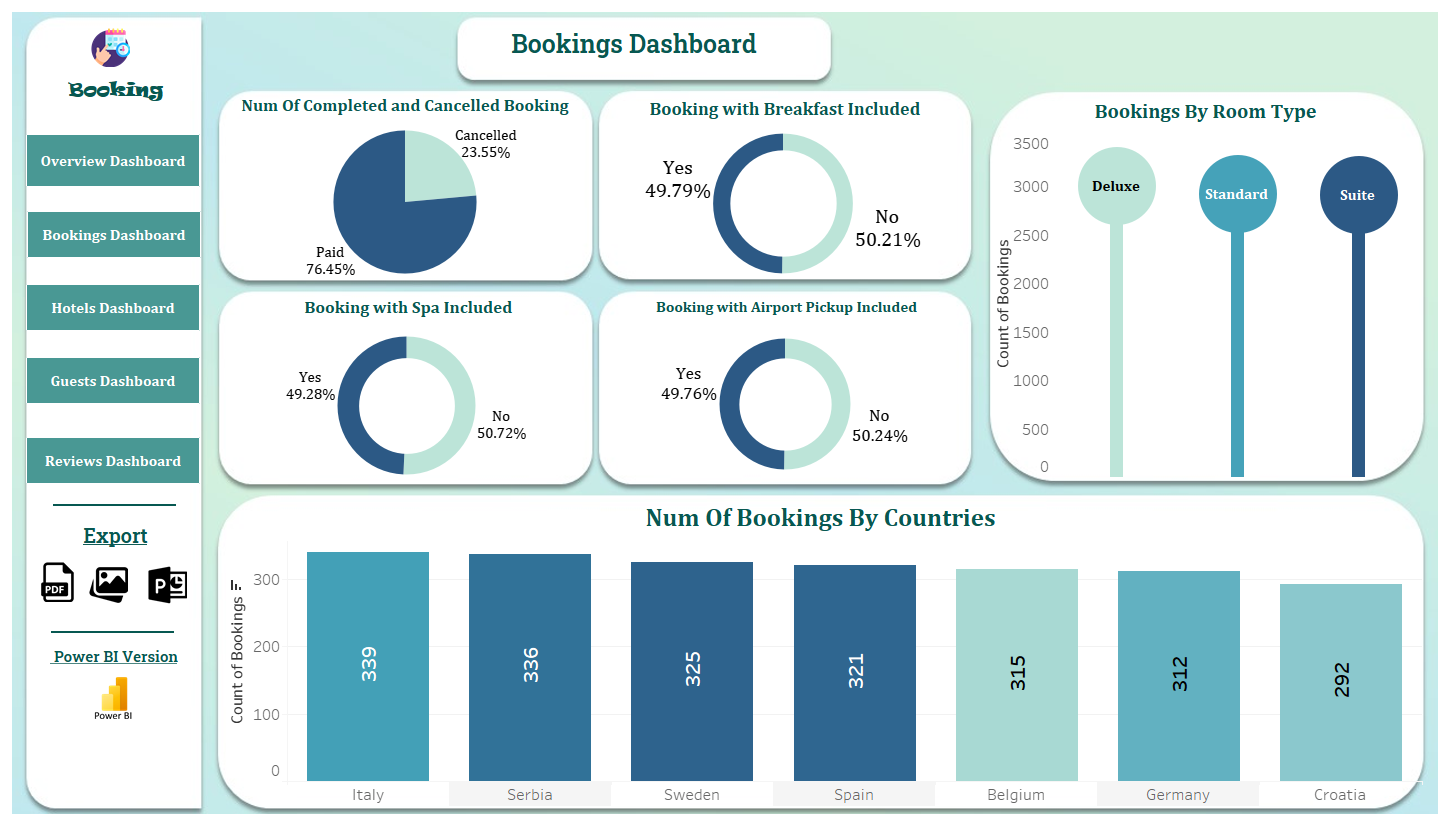

Layout of this report page (visuals, bound fields, positions):
{"tool":"tableau","page":{"name":"Booking Dashboard ","canvas":[1450,830],"ordinal":0},"visuals":[{"type":"image","param":"Image/boas.jpg","box":[8,8,1434,814]},{"type":"text","box":[508,26.4,370,34.2]},{"type":"image","param":"Image/choose.png","box":[91,28.3,47,39.1]},{"type":"text","box":[65,75.2,100,29.3]},{"type":"worksheet","title":"Num Of Completed and Cancelled Booking","mark":"Pie","box":[218,89,374,191]},{"type":"worksheet","title":" Booking with Breakfast Included","mark":"Automatic","rows":["Calculation_673288203220189195","Calculation_673288203220189195"],"box":[597,92,372,186]},{"type":"worksheet","title":"Bookings By Room Type ","mark":"Automatic","rows":["Booking_id_SK","Booking_id_SK"],"cols":["Room Type"],"box":[992,93,427,384]},{"type":"dashboard-object","box":[26,133.8,174,52.7]},{"type":"dashboard-object","box":[27,210.9,174,46.9]},{"type":"dashboard-object","box":[26,284.2,174,46.9]},{"type":"worksheet","title":" Booking with Spa Included","mark":"Automatic","rows":["Calculation_673288203220189195","Calculation_673288203220189195"],"box":[222,291,369,194]},{"type":"worksheet","title":" Booking with Airport Pickup Included","mark":"Automatic","rows":["Calculation_673288203220189195","Calculation_673288203220189195"],"box":[599,292,372,191]},{"type":"dashboard-object","box":[26,357.4,174,46.9]},{"type":"dashboard-object","box":[26,437.5,174,46.9]},{"type":"worksheet","title":"Num Of Bookings By Countries","mark":"Automatic","rows":["Booking_id_SK"],"cols":["Country"],"box":[219,496,1203,310]},{"type":"blank","box":[53,504,123,2]},{"type":"text","box":[80,519,73,34]},{"type":"dashboard-object","box":[71,565,76,39]},{"type":"dashboard-object","box":[122,565,91,39]},{"type":"blank","box":[51,631,123,2]},{"type":"text","box":[47,644,144,25]},{"type":"image","param":"Image/Microsoft-Power-BI-Symbol.png","box":[75,676,77,61]}]}

Visuals, with their boxes in screenshot pixels (x1, y1, x2, y2), scaled from the page's 1450x830 canvas onto the 1450x830 screenshot:
image: 8/8/1442/822
text: 508/26/878/61
image: 91/28/138/67
text: 65/75/165/104
"Num Of Completed and Cancelled Booking" worksheet (Pie marks): 218/89/592/280
" Booking with Breakfast Included" worksheet: 597/92/969/278
"Bookings By Room Type " worksheet: 992/93/1419/477
dashboard-object: 26/134/200/186
dashboard-object: 27/211/201/258
dashboard-object: 26/284/200/331
" Booking with Spa Included" worksheet: 222/291/591/485
" Booking with Airport Pickup Included" worksheet: 599/292/971/483
dashboard-object: 26/357/200/404
dashboard-object: 26/438/200/484
"Num Of Bookings By Countries" worksheet: 219/496/1422/806
blank: 53/504/176/506
text: 80/519/153/553
dashboard-object: 71/565/147/604
dashboard-object: 122/565/213/604
blank: 51/631/174/633
text: 47/644/191/669
image: 75/676/152/737
